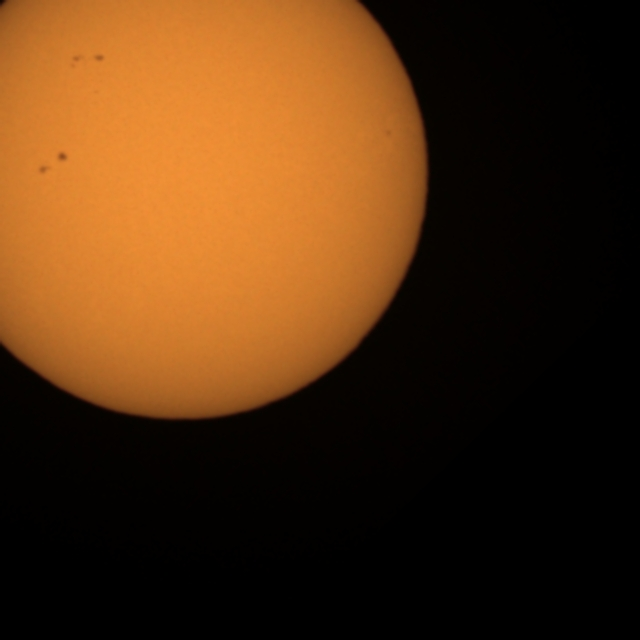sunspot: (36, 150, 69, 175), (68, 51, 106, 71), (69, 54, 83, 70), (55, 150, 70, 164), (37, 163, 52, 176), (91, 52, 106, 64), (384, 127, 394, 139)
